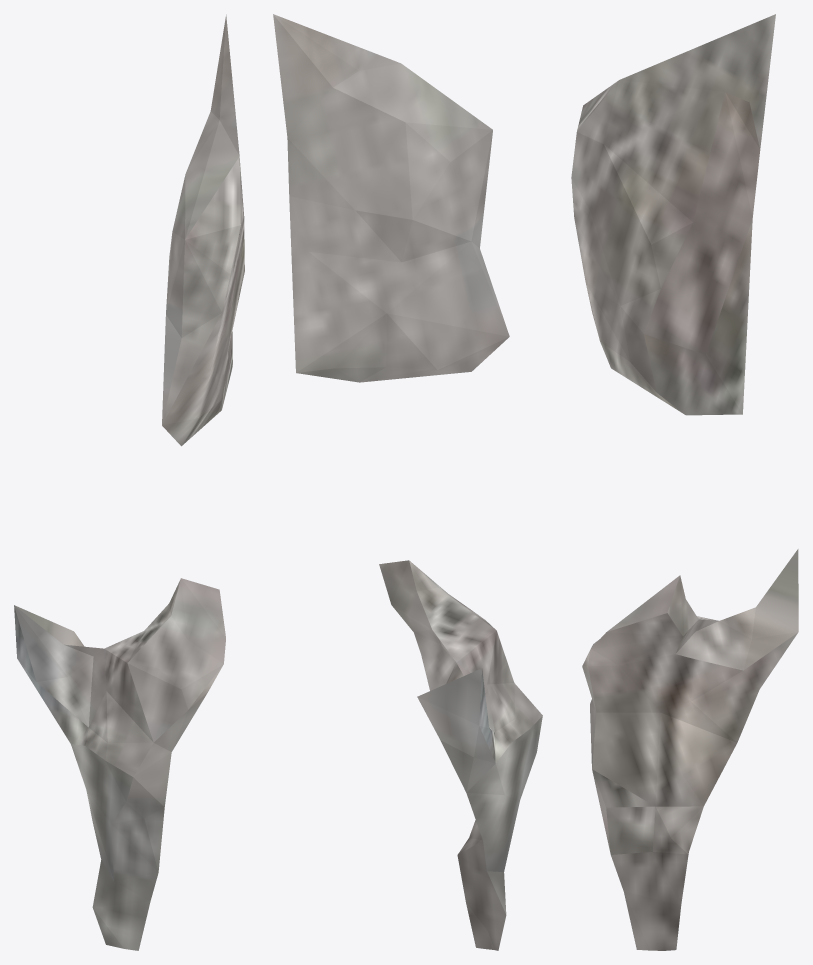
Rendered from Tile_+010_+010_L21_0uuuu12.glb.
3 renders of one model, left to right at view 1: azimuth 30°, elevation 25°; view 2: azimuth 150°, elevation 25°; view 3: azimuth 270°, elevation 25°, orthographic. The views are drawn at different scales.
Parts seen in each view (by area): view 1: rtc; view 2: rtc; view 3: rtc.
Boxes of the visible parts, x1,y1,x2,y2 form: rtc: [14, 14, 244, 950]; rtc: [273, 14, 542, 950]; rtc: [571, 14, 798, 950].
Bounding box in the file's own units: 2.48 × 10.03 × 2.02.
1 material, 1 textured.
